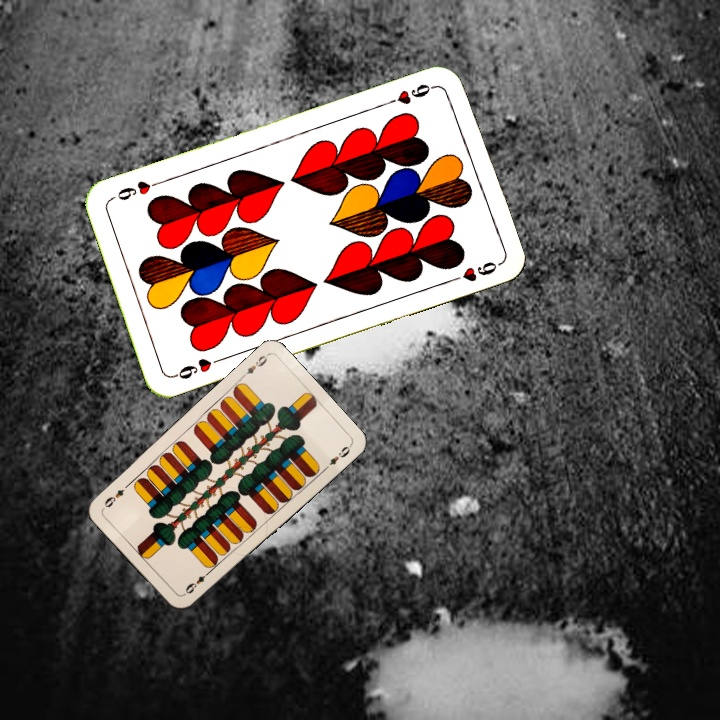E9: (237, 350, 271, 381), (180, 567, 213, 598)
H9: (169, 353, 226, 382), (382, 80, 439, 108)
